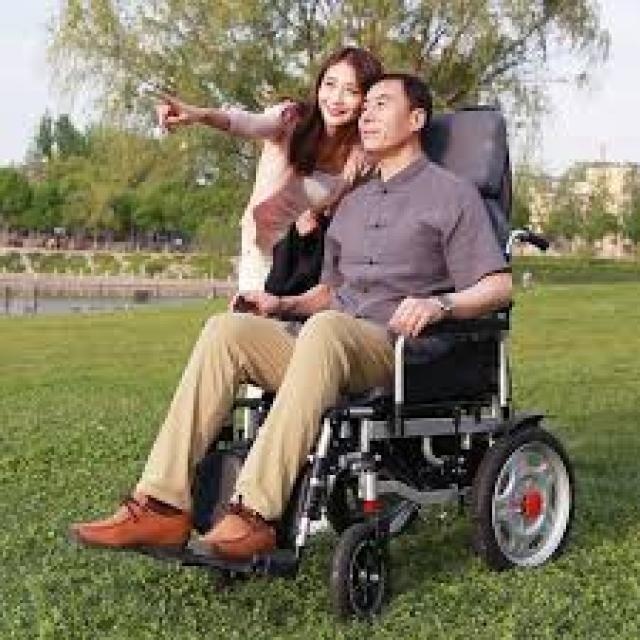wheelchair: (68, 75, 576, 618)
